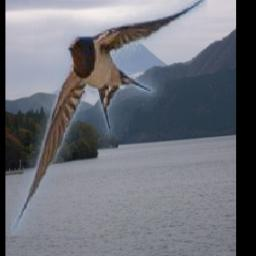Swallow: (11, 0, 207, 237)
